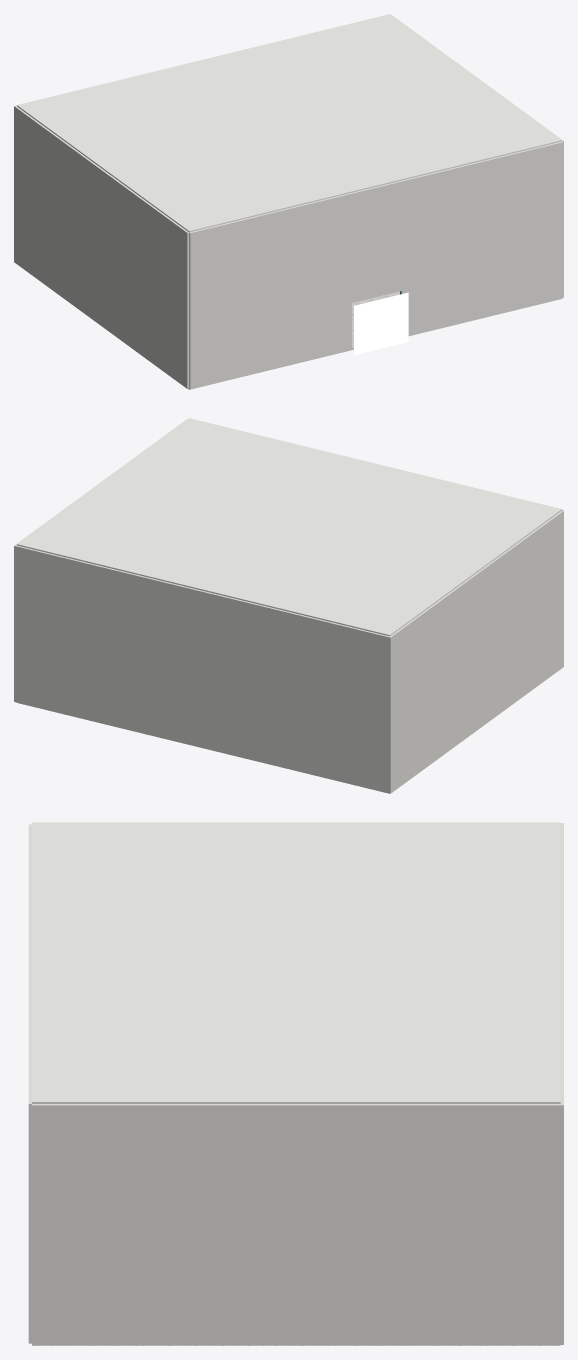
Rendered from room_mall_sathy.glb.
3 views of the same model, one above another, from view 1: azimuth 30°, elevation 25°; view 2: azimuth 150°, elevation 25°; view 3: azimuth 270°, elevation 25° (orthographic). The views are drawn at different scales.
Parts seen in each view (by area): view 1: Room; view 2: Room; view 3: Room.
Boxes of the visible parts, <box> form: Room: <box>14,14,563,389</box>; Room: <box>14,418,563,793</box>; Room: <box>14,822,563,1345</box>.
Size of the model in its own units: 30.3 by 12.79 by 24.96.
Materials: 45 (3 with a texture image).
